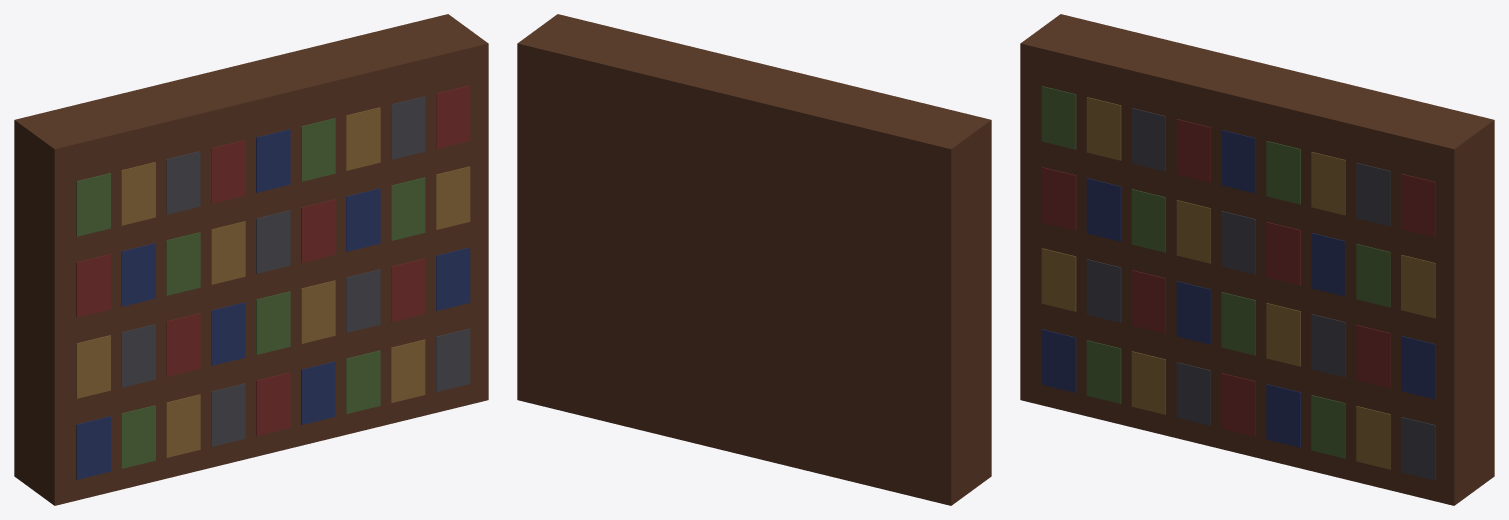
The model's file is high_bookshelf_2.glb.
The picture shows the model from 3 angles, left to right: view 1: azimuth 30°, elevation 25°; view 2: azimuth 150°, elevation 25°; view 3: azimuth 330°, elevation 25°; orthographic projection.
Visible parts, largest first — view 1: Box1, Box2, Box7, Box8, Box11, Box12, Box17, Box20, Box21, Box22, Box23, Box32 (+25 smaller); view 2: Box1; view 3: Box1, Box12, Box20, Box2, Box3, Box11, Box21, Box29, Box30, Box4, Box5, Box10 (+25 smaller).
Boxes of the visible parts, <box> form: Box1: <box>14,14,488,505</box>; Box2: <box>76,416,110,479</box>; Box7: <box>301,361,335,424</box>; Box8: <box>346,350,380,413</box>; Box11: <box>76,335,110,398</box>; Box12: <box>121,324,155,387</box>; Box17: <box>346,269,380,332</box>; Box20: <box>76,254,110,317</box>; Box21: <box>121,243,155,306</box>; Box22: <box>166,232,200,295</box>; Box23: <box>211,221,245,284</box>; Box32: <box>211,140,245,203</box>; Box1: <box>517,14,991,505</box>; Box1: <box>1020,14,1494,505</box>; Box12: <box>1086,259,1121,322</box>; Box20: <box>1041,167,1076,230</box>; Box2: <box>1041,329,1076,392</box>; Box3: <box>1086,340,1121,403</box>; Box11: <box>1041,248,1076,311</box>; Box21: <box>1086,178,1121,241</box>; Box29: <box>1041,86,1076,149</box>; Box30: <box>1086,97,1121,160</box>; Box4: <box>1131,351,1165,414</box>; Box5: <box>1176,362,1210,425</box>; Box10: <box>1401,417,1435,480</box>.
Bounding box in the file's own units: 2.8 × 2.2 × 0.455.
